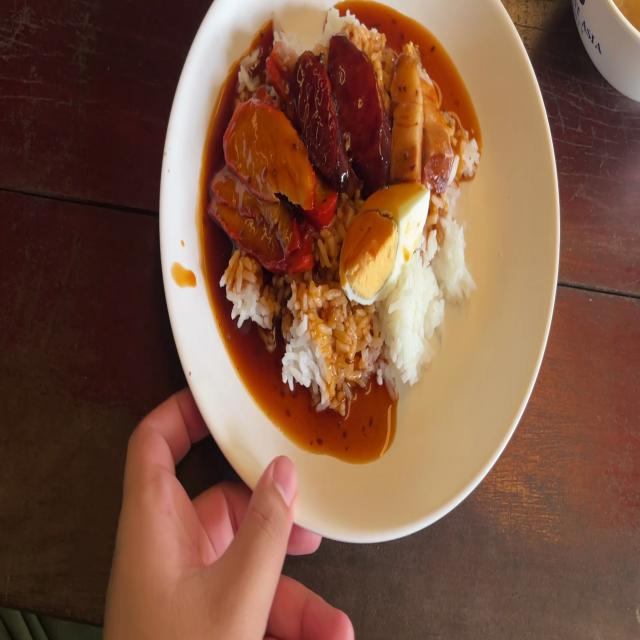red_pork_and_crispy_pork: (339, 184, 426, 298)
stir_fried_basil: (301, 34, 386, 188)
